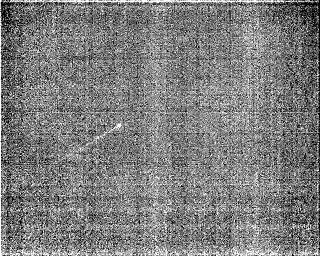AIRPLANE: (59, 121, 123, 162)
